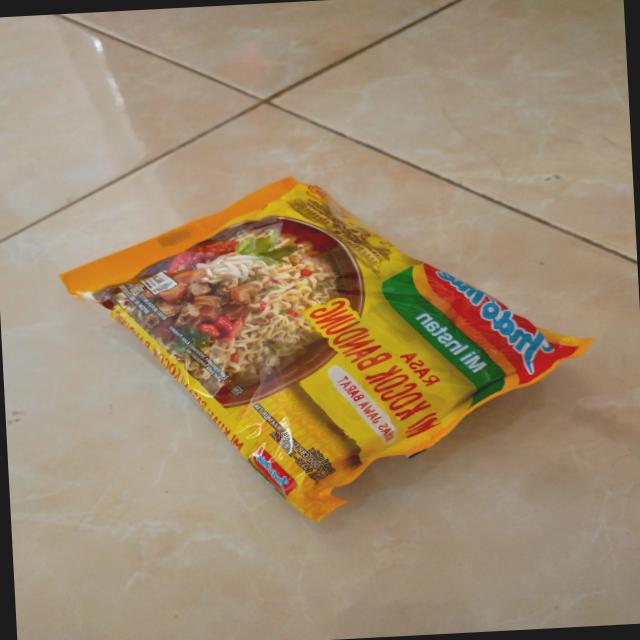indomie-mie-kocok-bandung: (53, 158, 605, 534)
